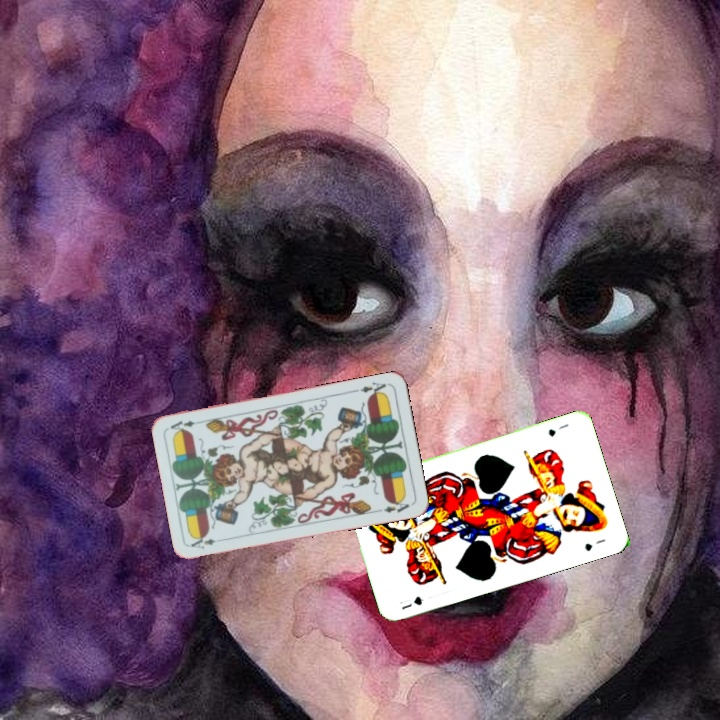EA: (356, 378, 391, 399), (187, 532, 218, 551)
GU: (395, 592, 426, 612), (544, 419, 571, 439)
